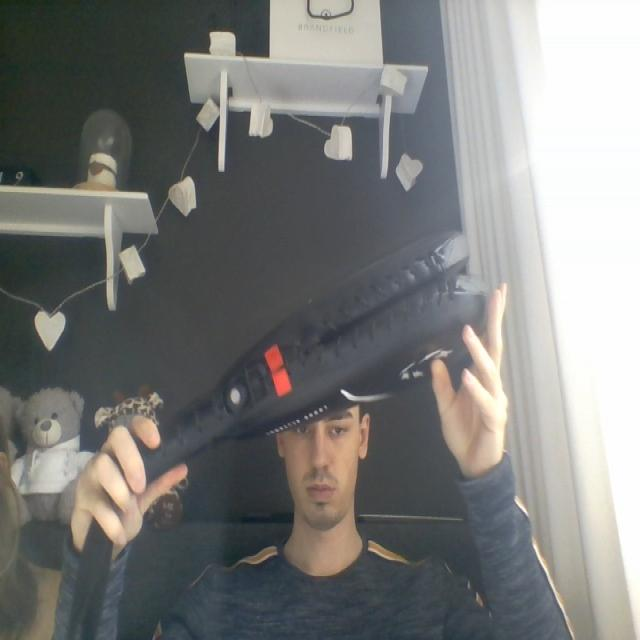paddle: (119, 226, 489, 486)
